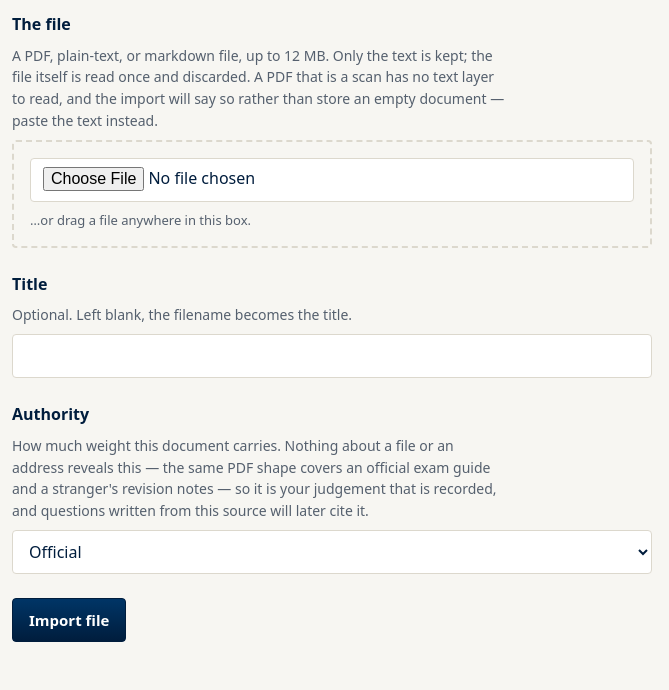
Test case: SourceImportForm › uploading a file › reports a missing or unreadable file on the file field
The image size is (669, 690).
Click the button "Import file".
click(69, 620)  # box left=12, top=598, right=126, bottom=642
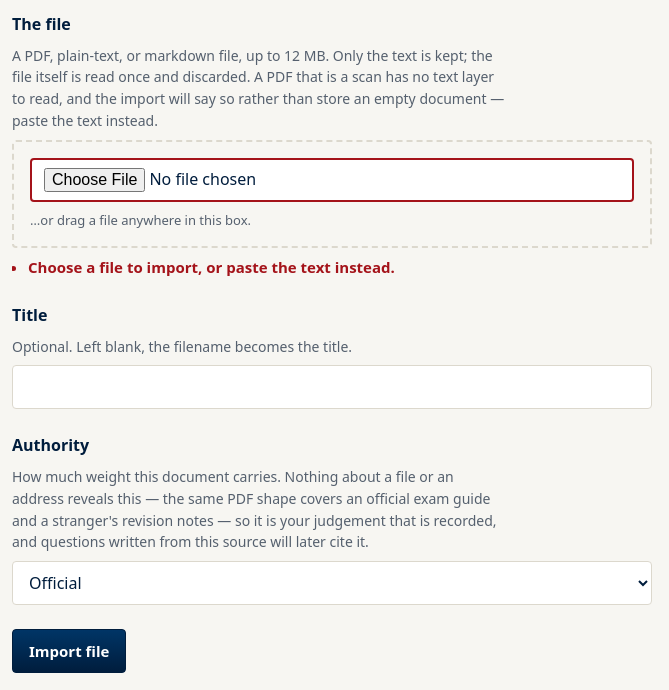
Now the list item "Choose a file to import, or paste the text instead." is shown, box left=28, top=257, right=395, bottom=277
